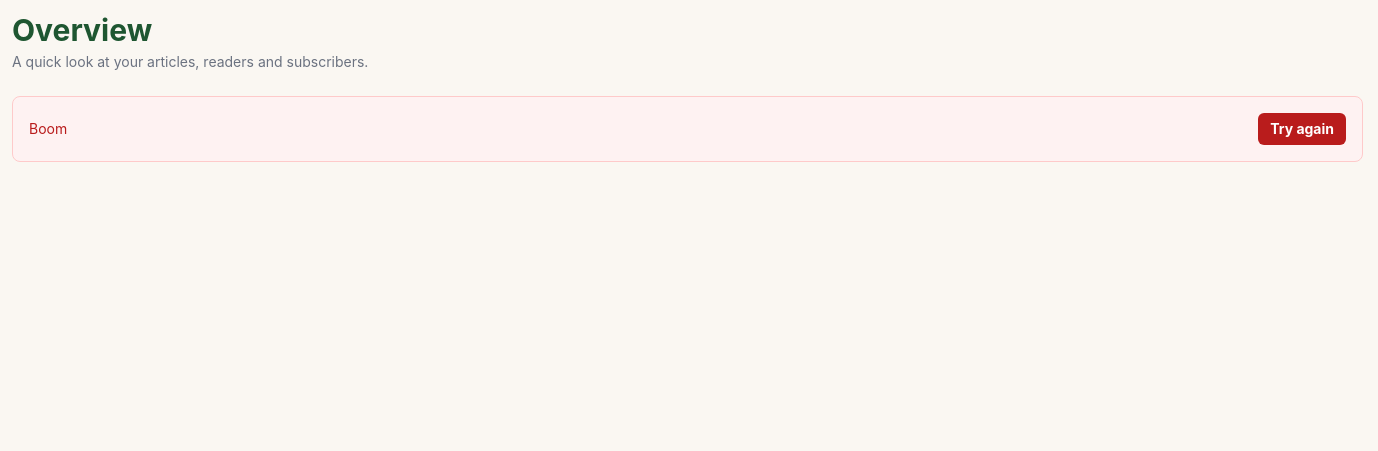
it: shows an error with a retry that loads again
Expected: the message shows "Boom", left=29, top=120, right=67, bottom=137
Click the button "Try again": (1302, 129) left=1258, top=113, right=1346, bottom=145
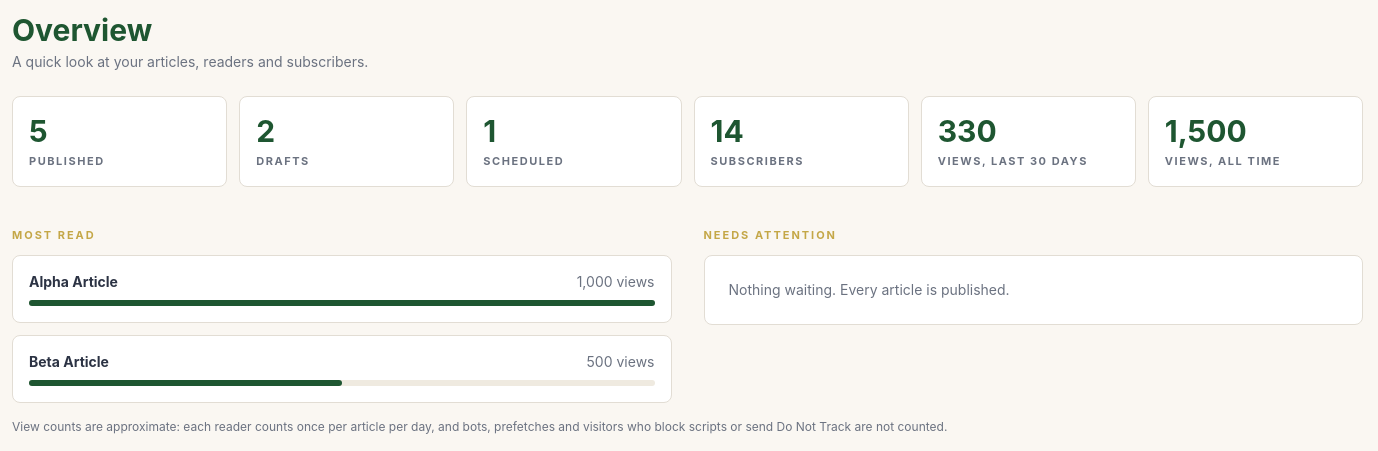
Expected: the list named "summary" is shown, left=12, top=96, right=1363, bottom=186
